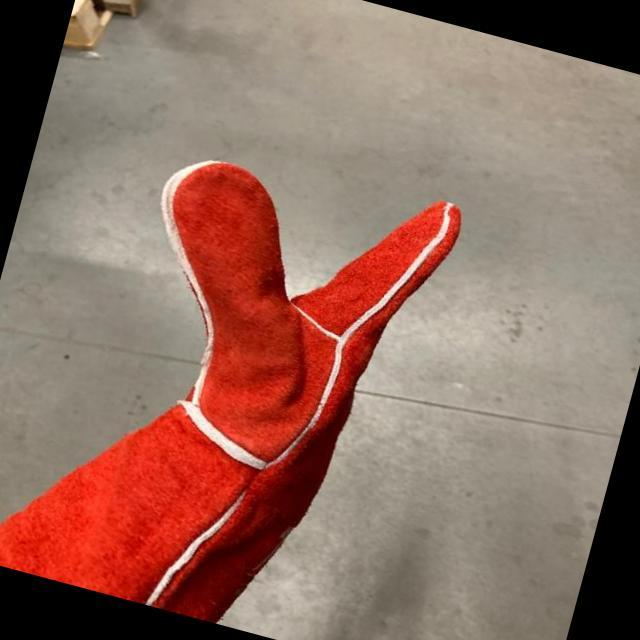glove: (0, 157, 458, 619)
